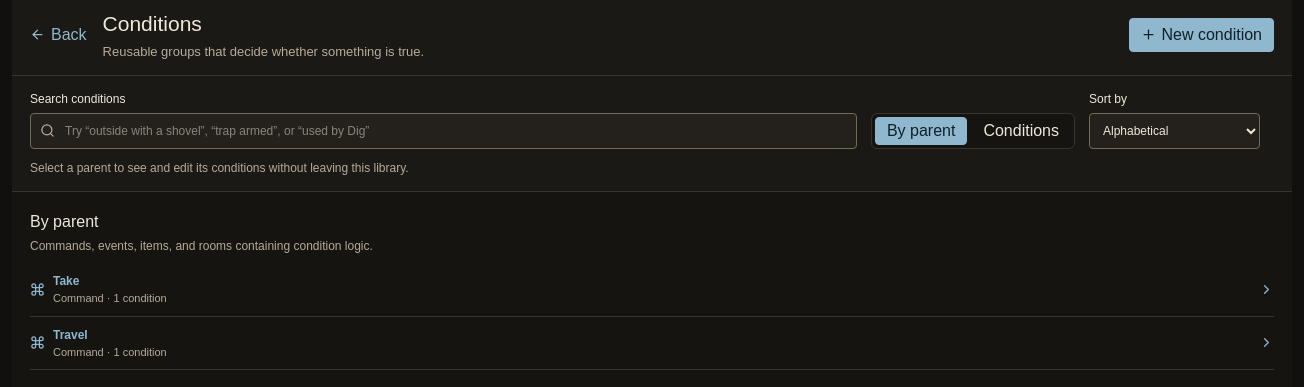
LogicLibraryWorkspace › searches parents and inline groups with schema discovery metadata
The width and height of the screenshot is (1304, 387).
Type "within reach" into the search field labelled "Search conditions".
click(443, 131); type("within reach")  # box [30,113,857,149]
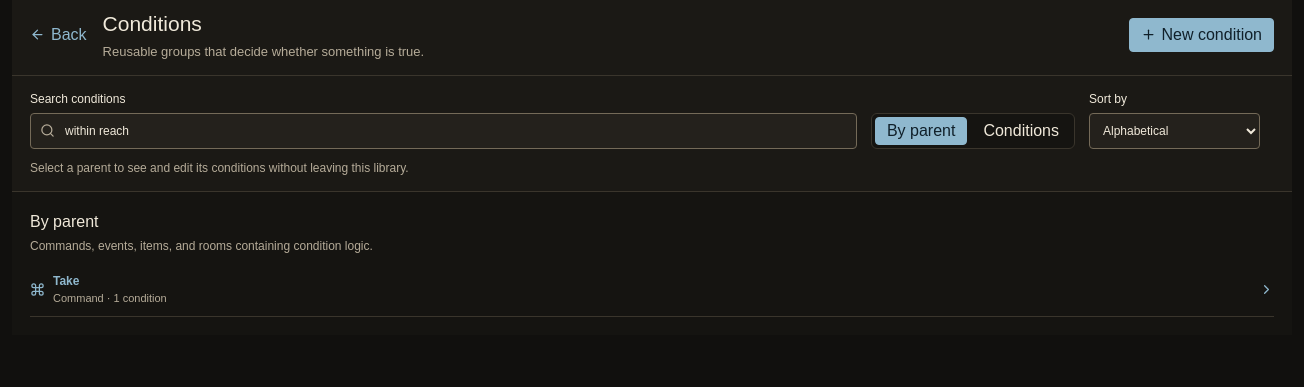
Expected: the button "Take Command · 1 condition" is shown, [30,263,1274,316]
Expected: the button "Travel Command · 1 condition" is gone
Click the button "Conditions".
click(1021, 131)  # box [971,117,1071,145]
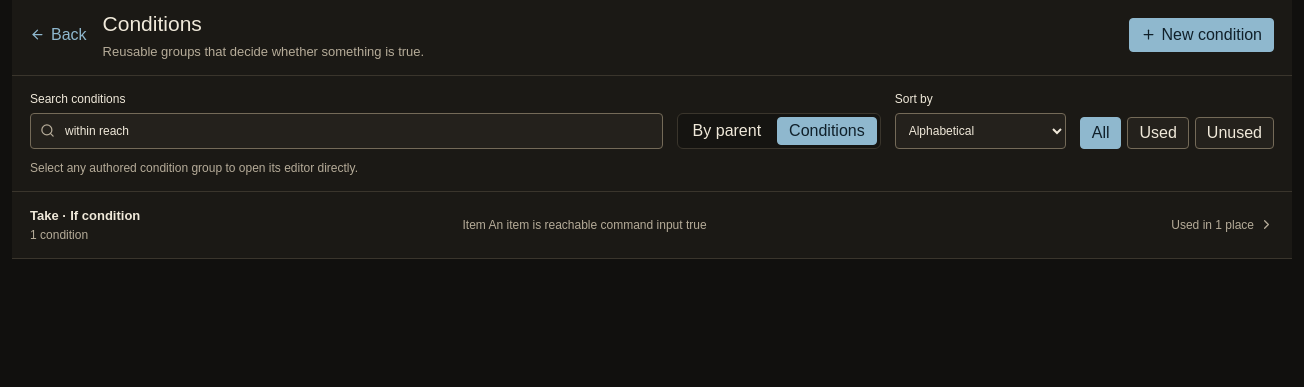
Expected: the button "Take · If condition" is shown, [12,192,1292,258]
